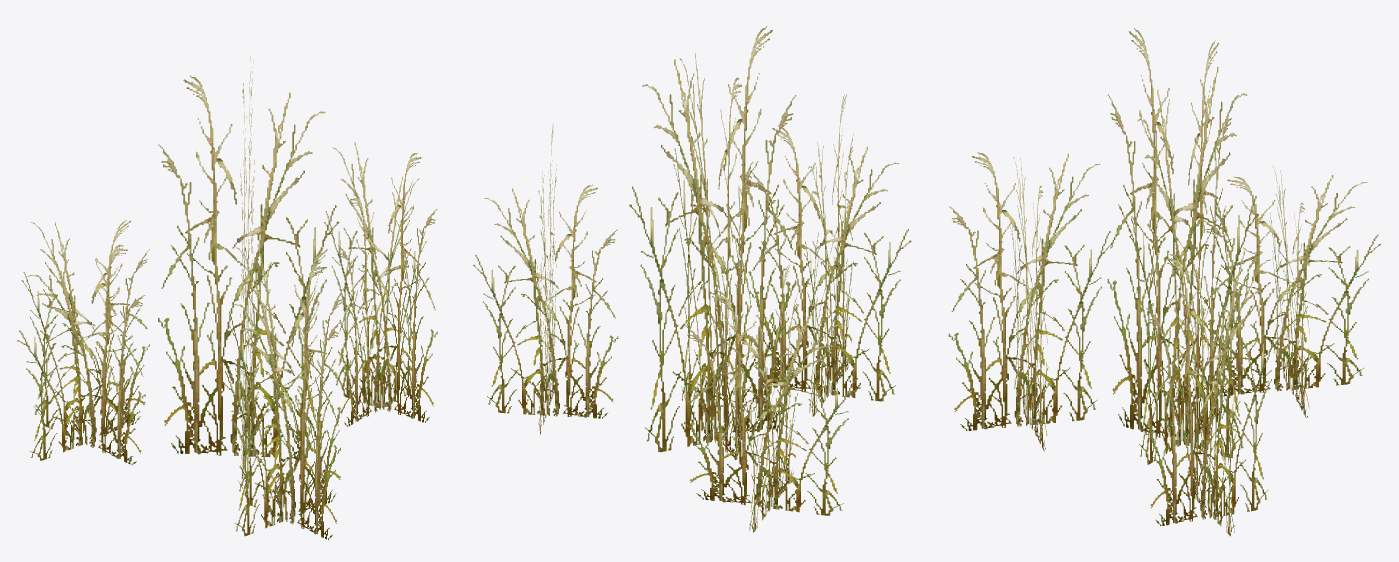
Rendered from grs_weed07.glb.
3 views of the same model, side by side, from view 1: azimuth 30°, elevation 25°; view 2: azimuth 150°, elevation 25°; view 3: azimuth 270°, elevation 25° (orthographic).
Parts seen in each view (by area): view 1: grs_weed07; view 2: grs_weed07; view 3: grs_weed07.
Part boxes in pixels (x1,y1,x2,y2): grs_weed07: (17, 55, 437, 540); grs_weed07: (473, 26, 911, 532); grs_weed07: (948, 28, 1381, 536).
Size of the model in its own units: 2.77 by 2.66 by 2.61.
Materials: 1 (1 with a texture image).
